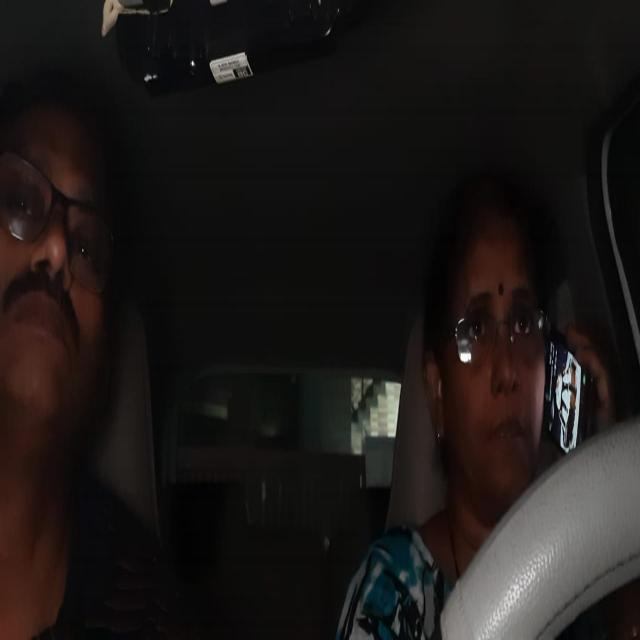mobile: (551, 330, 591, 456)
person: (6, 117, 113, 429), (447, 212, 542, 478)
